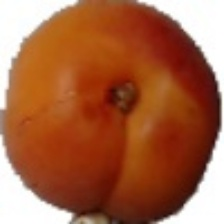apricot: (48, 8, 202, 175)
